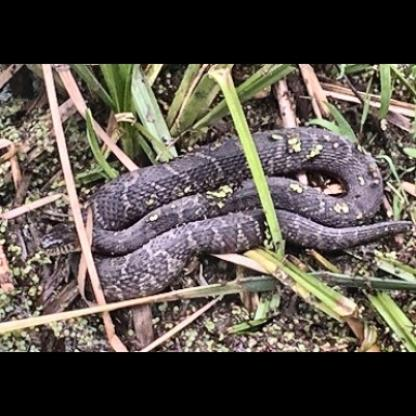Snake: (11, 127, 411, 318)
